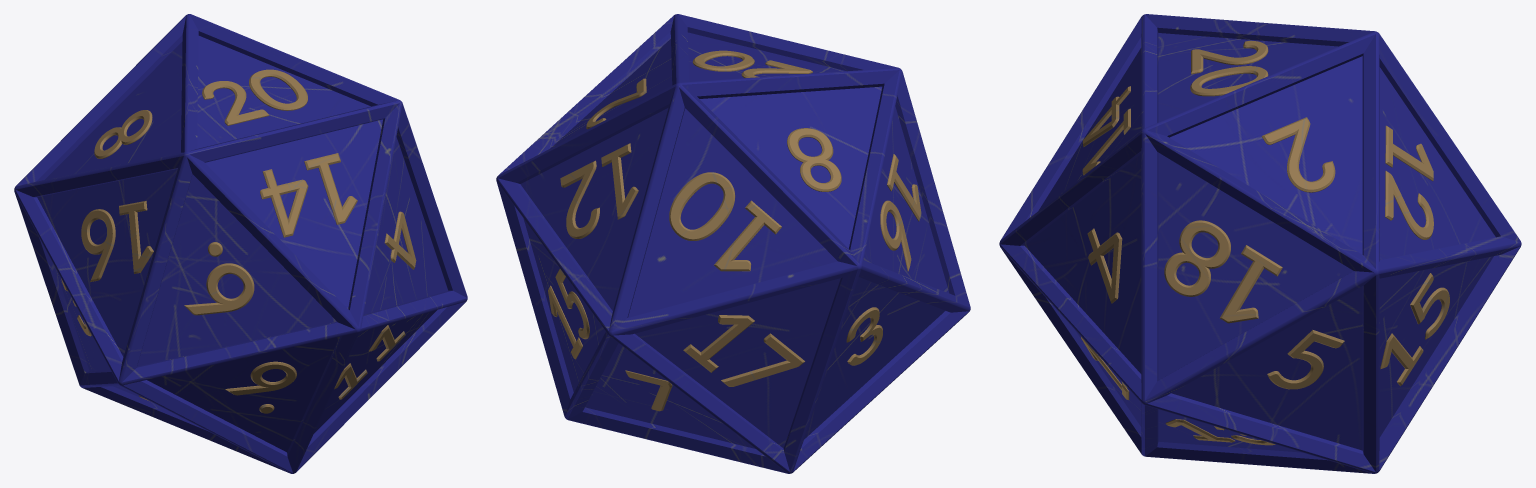
Rendered from dice3.glb.
3 renders of one model, left to right at view 1: azimuth 30°, elevation 25°; view 2: azimuth 150°, elevation 25°; view 3: azimuth 270°, elevation 25°, orthographic. The views are drawn at different scales.
Parts seen in each view (by area): view 1: Icosphere; view 2: Icosphere; view 3: Icosphere.
Part boxes in pixels (left/top/right/bottom): Icosphere: left=14, top=14, right=467, bottom=473; Icosphere: left=496, top=14, right=970, bottom=473; Icosphere: left=999, top=14, right=1521, bottom=473.
Bounding box in the file's own units: 170 × 178 × 199.
2 materials, 2 textured.
